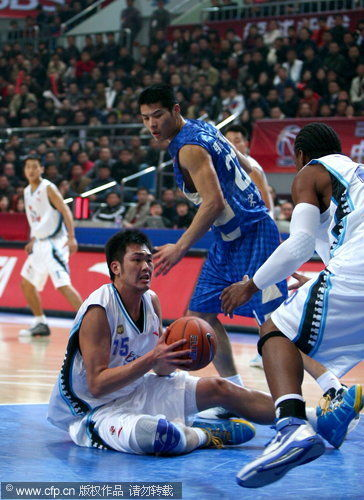10+: (6, 6, 364, 479)
down: (49, 228, 361, 452)
